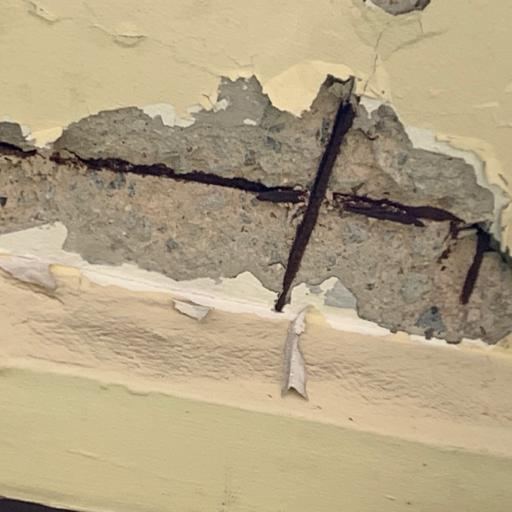exposed_rebar: (275, 101, 355, 311), (275, 101, 353, 311), (53, 155, 308, 203), (336, 194, 468, 228), (460, 224, 491, 304), (0, 142, 36, 156)
spalling: (0, 76, 350, 290), (294, 94, 512, 342)
